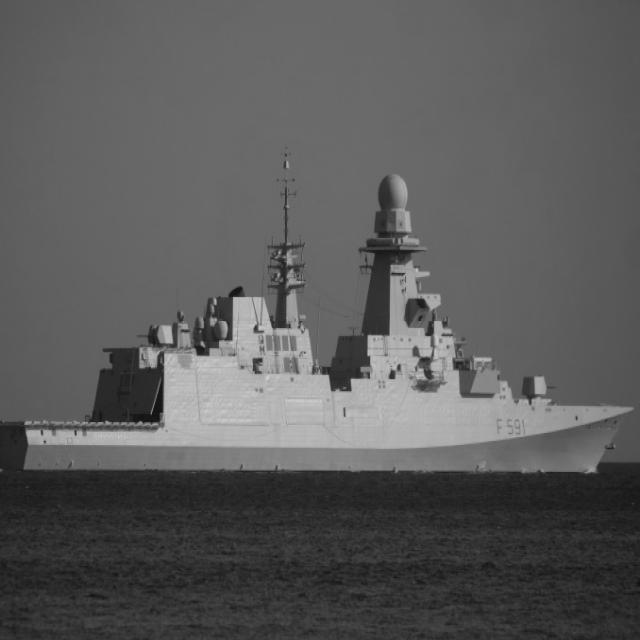Fragata: (1, 142, 636, 483)
